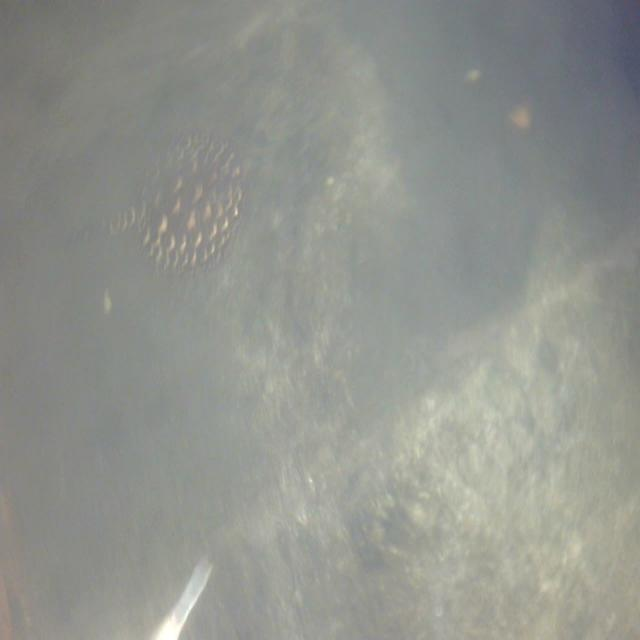black-diamond-sting-ray: (66, 110, 251, 342)
